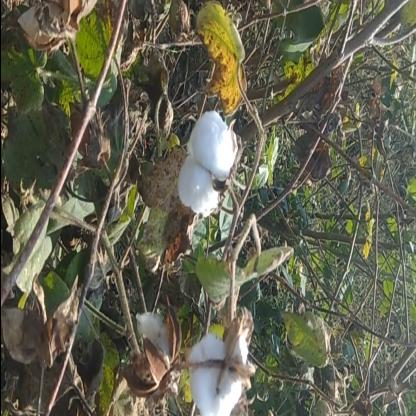cotton_ready: (175, 309, 257, 413), (186, 96, 242, 238)
